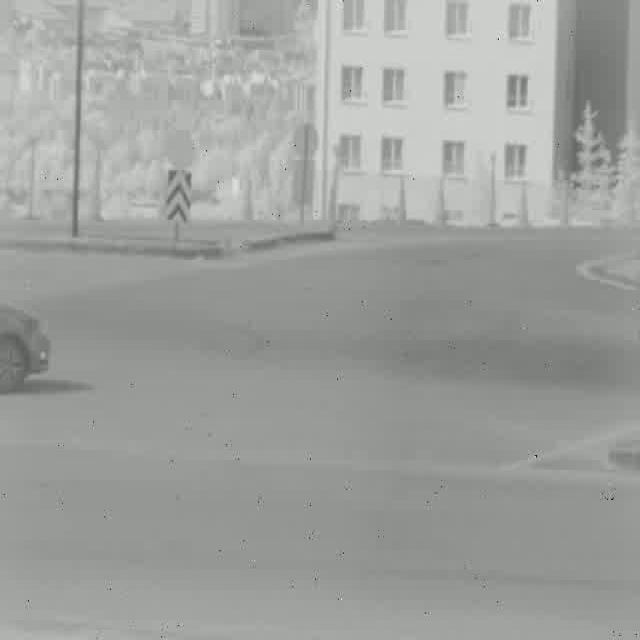Car: (0, 306, 48, 393)
